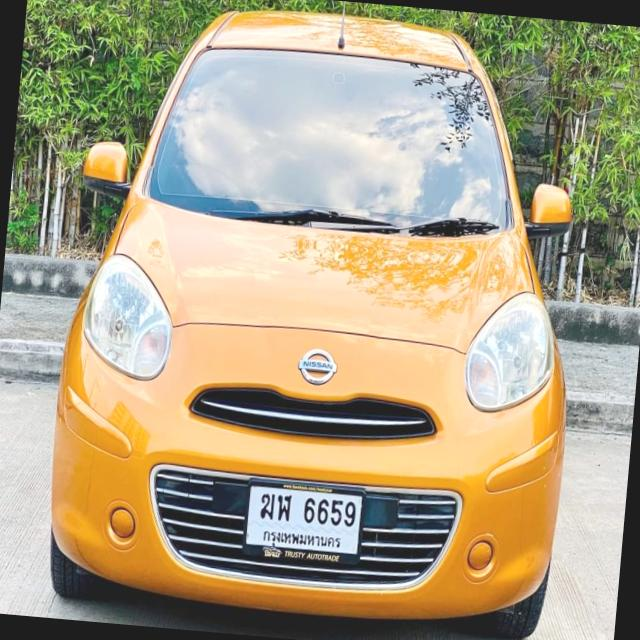license_plate: (238, 472, 366, 574)
